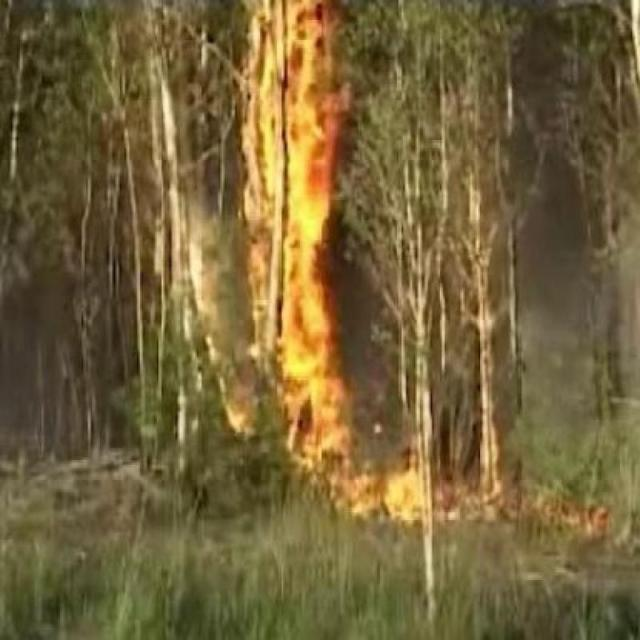Fire: (231, 0, 412, 505)
